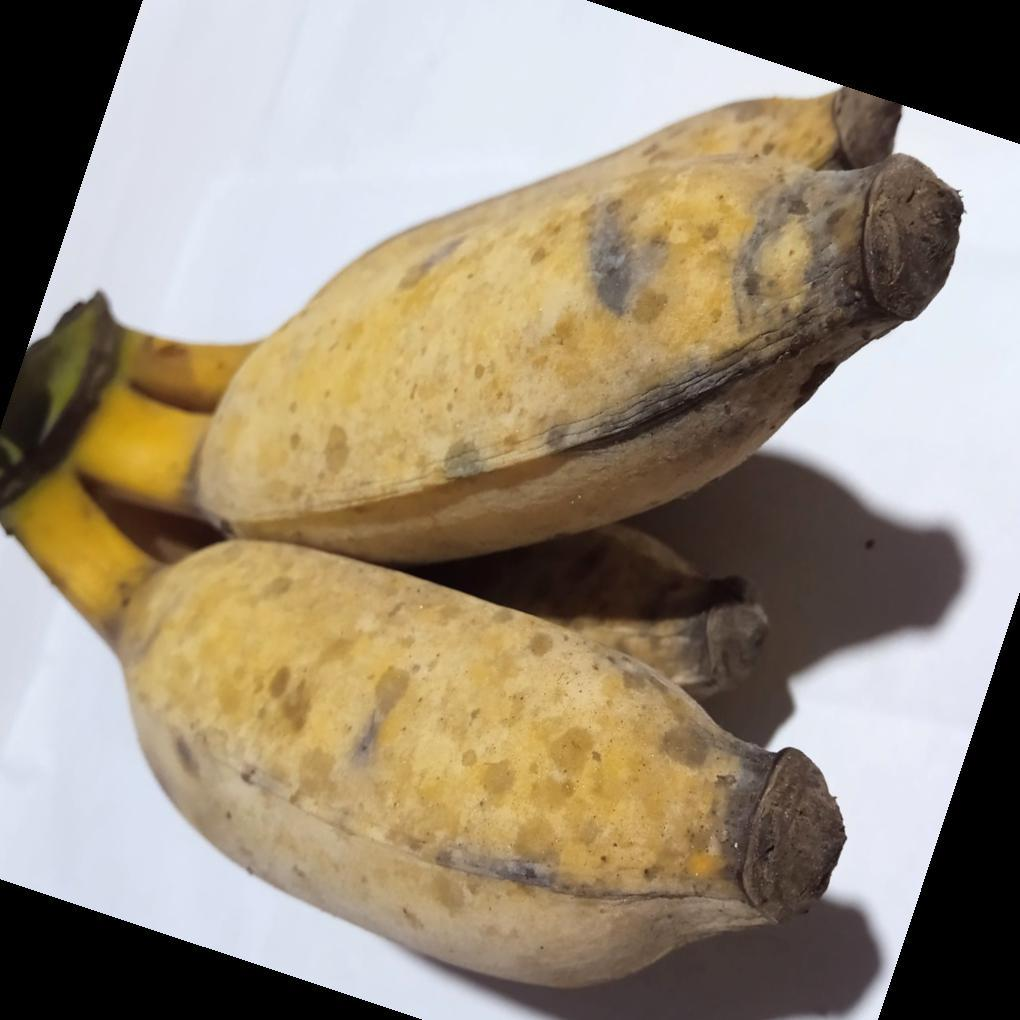Banana Ripe: (36, 93, 932, 1020), (98, 93, 996, 549), (71, 503, 902, 964)
